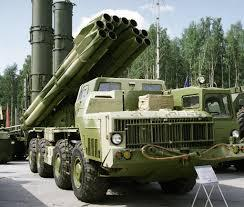MIL_SAM_TEL: (21, 12, 244, 197)
